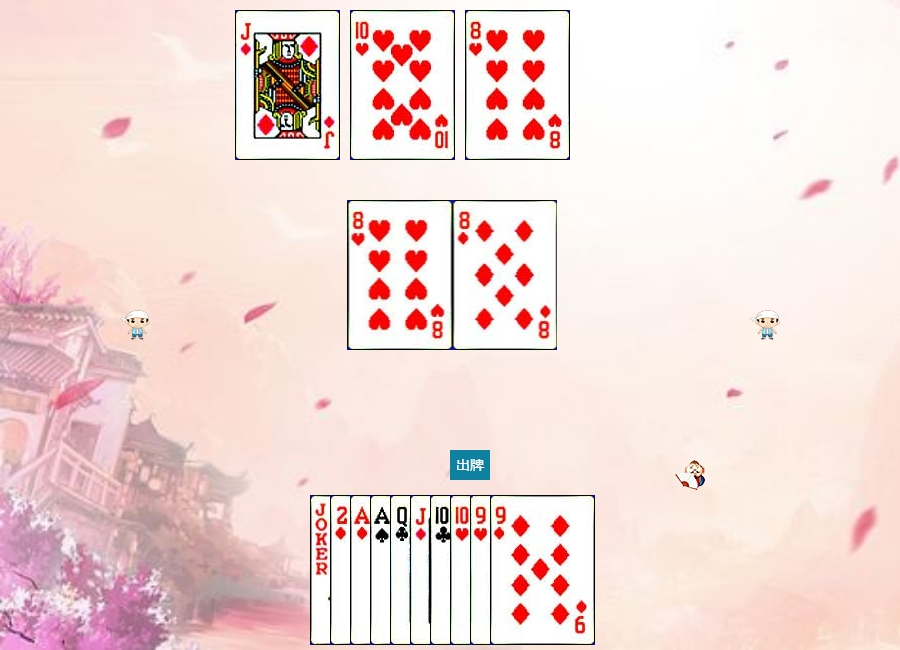10~2: (430, 495, 535, 645)
10~3: (350, 10, 455, 160), (450, 495, 555, 645)
11~1: (235, 10, 340, 160), (410, 495, 515, 645)
12~2: (390, 495, 495, 645)
14~1: (350, 495, 455, 645)
14~4: (370, 495, 475, 645)
15~1: (330, 495, 435, 645)
18~4: (310, 495, 415, 645)
8~1: (453, 200, 558, 350)
8~3: (465, 10, 570, 160), (348, 200, 453, 350)
9~1: (490, 495, 595, 645)
9~3: (470, 495, 575, 645)
